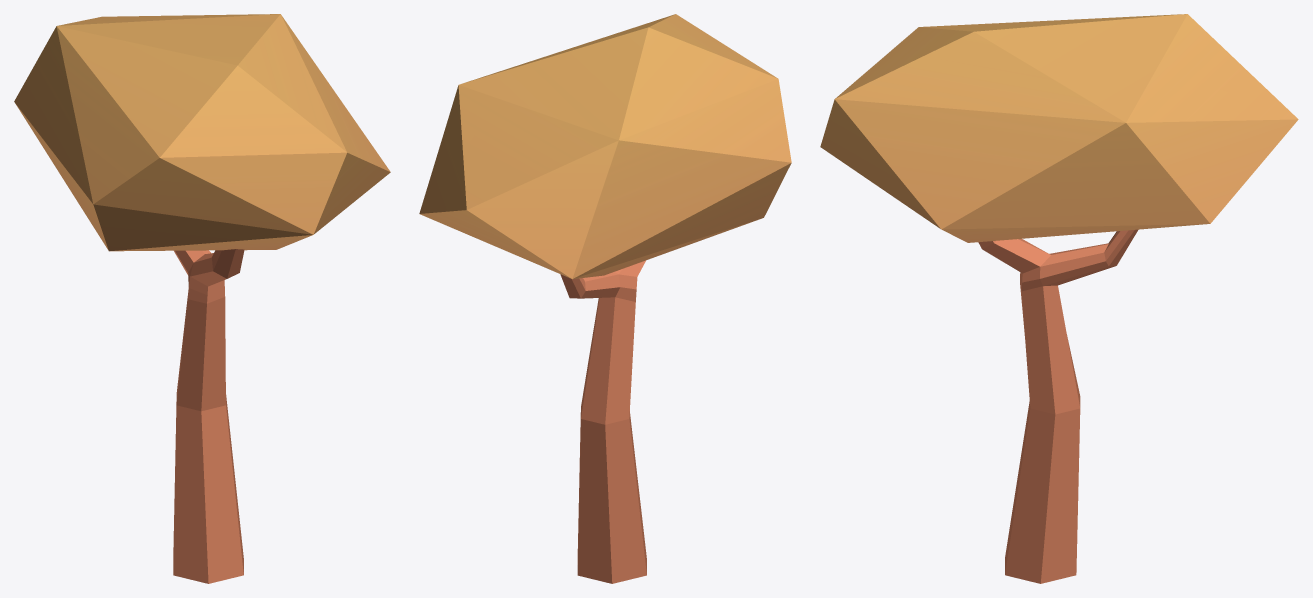
The model's file is Tree_07_gradient_yellow_pal.fbx.
3 renders of one model, left to right at view 1: azimuth 30°, elevation 25°; view 2: azimuth 150°, elevation 25°; view 3: azimuth 270°, elevation 25°, orthographic. The views are drawn at different scales.
Parts seen in each view (by area): view 1: Tree_07_gradient_yellow_pal; view 2: Tree_07_gradient_yellow_pal; view 3: Tree_07_gradient_yellow_pal.
Part boxes in pixels (x1,y1,x2,y2): Tree_07_gradient_yellow_pal: (14,14,390,583); Tree_07_gradient_yellow_pal: (419,14,791,583); Tree_07_gradient_yellow_pal: (820,14,1298,583).
Bounding box in the file's own units: 134 × 238 × 194.
